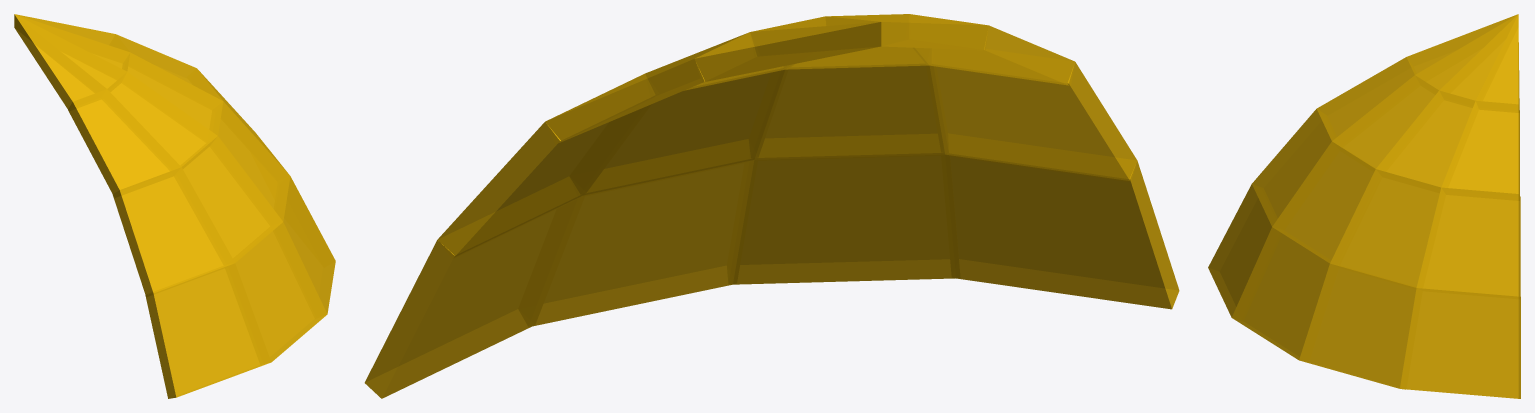
File: SM_Bld_Roof_Dome_L_Corner_01_Collision.fbx
3 renders of one model, left to right at view 1: azimuth 30°, elevation 25°; view 2: azimuth 150°, elevation 25°; view 3: azimuth 270°, elevation 25°, orthographic. The views are drawn at different scales.
Parts seen in each view (by area): view 1: SM_Bld_Roof_Dome_L_Corner_01_Collision; view 2: SM_Bld_Roof_Dome_L_Corner_01_Collision; view 3: SM_Bld_Roof_Dome_L_Corner_01_Collision.
Part boxes in pixels (x1=…): SM_Bld_Roof_Dome_L_Corner_01_Collision: x1=14, y1=14, x2=335, y2=398; SM_Bld_Roof_Dome_L_Corner_01_Collision: x1=364, y1=14, x2=1179, y2=398; SM_Bld_Roof_Dome_L_Corner_01_Collision: x1=1208, y1=14, x2=1520, y2=398.
Size of the model in its own units: 506 by 461 by 506.
